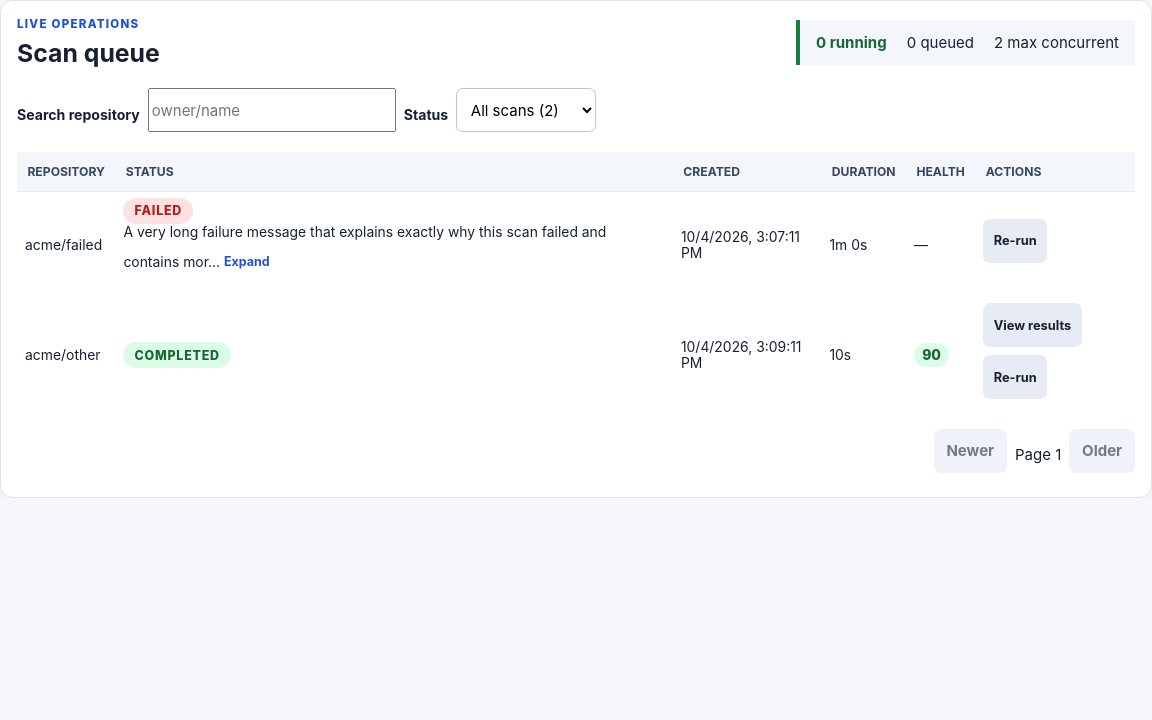
Test case: scan queue dashboard › expands failed error text, filters repositories, and formats duration
Expected: the text "1m 0s" is shown, [821,192,906,298]
Expected: the text "A very long failure message" is shown, [123,224,606,270]
Click the button "Expand" at (247, 262), box [220,240,274,284]
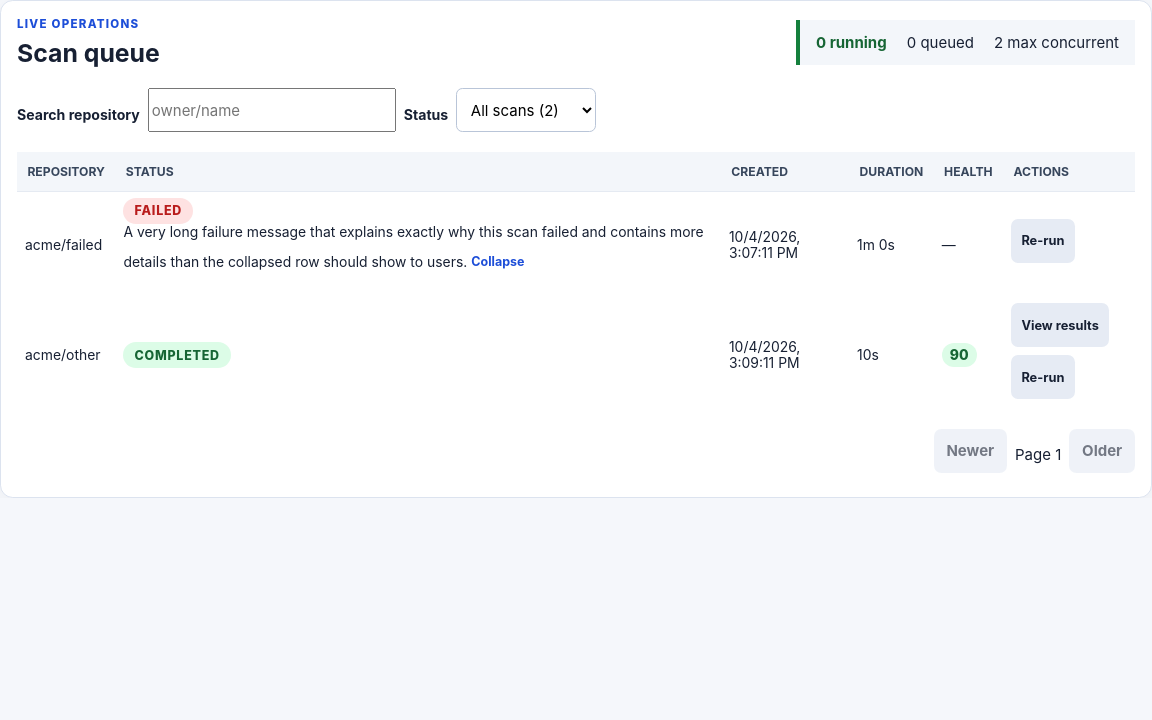
Expected: the text "A very long failure message that explains exactly why this scan failed and contains more details than the collapsed row " is shown, [123,224,704,270]
Type "other" into the field labelled "Search repository" at (272, 110), box [148,88,396,132]
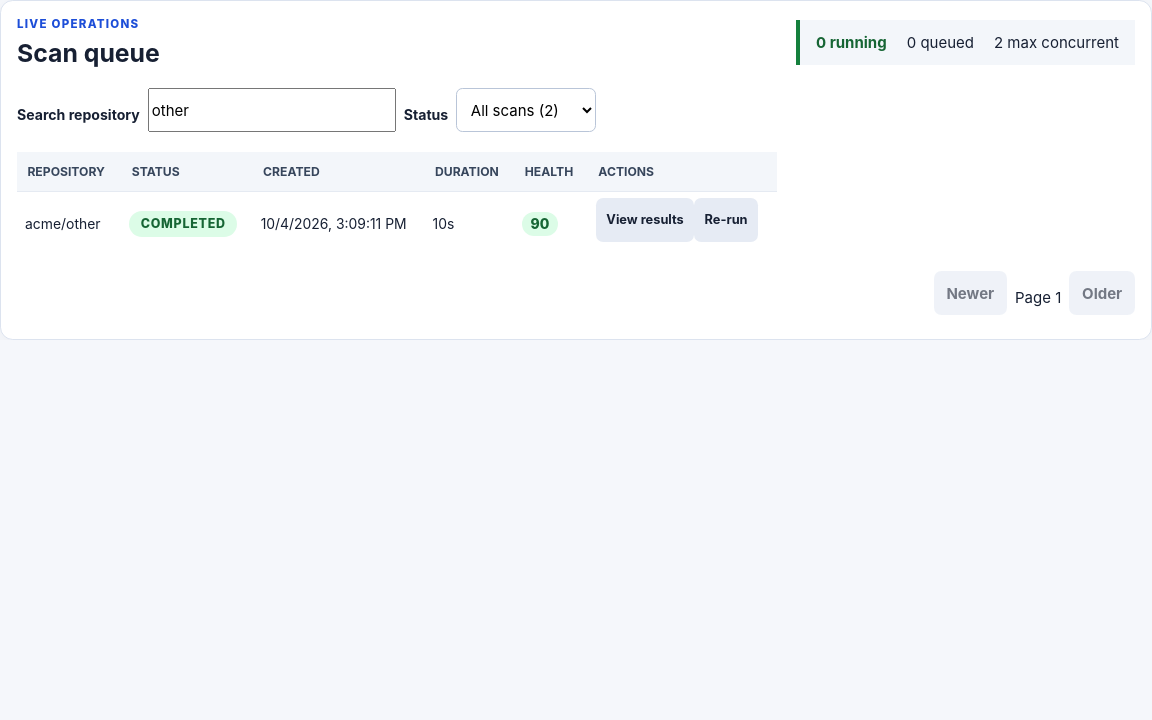
Expected: the text "acme/other" is shown, [17,192,121,255]
Expected: the text "acme/failed" is gone
